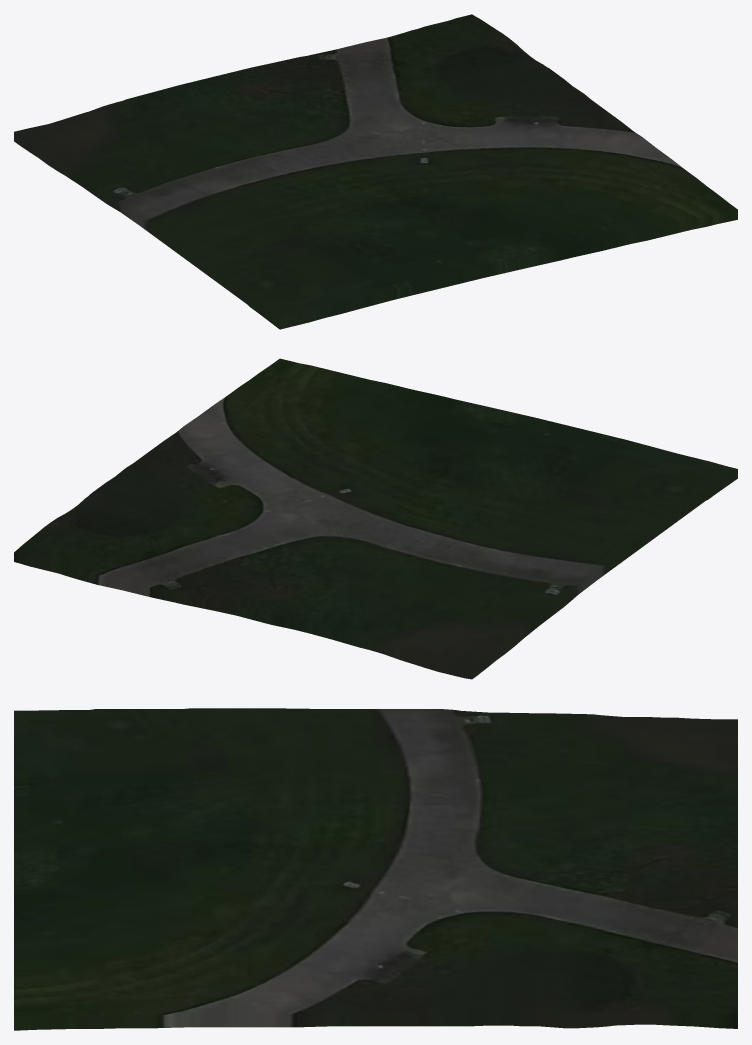
The model's file is z20-167782-405218-h0-yup-uvflip-v3-world.glb.
The picture shows the model from 3 angles, top to bottom: view 1: azimuth 30°, elevation 25°; view 2: azimuth 150°, elevation 25°; view 3: azimuth 270°, elevation 25°; orthographic projection. The views are drawn at different scales.
Bounding box in the file's own units: 30.16 × 1.44 × 30.32.
1 material, 1 textured.
